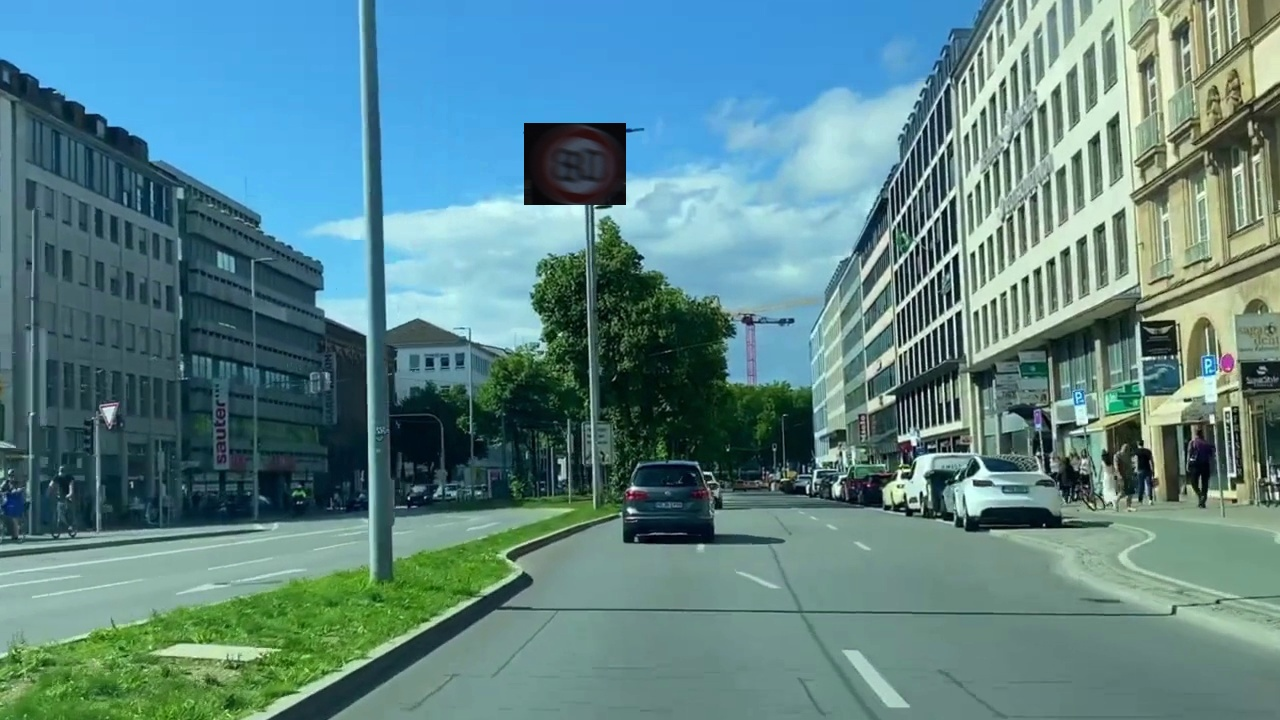Speed 80: (524, 123, 626, 205)
